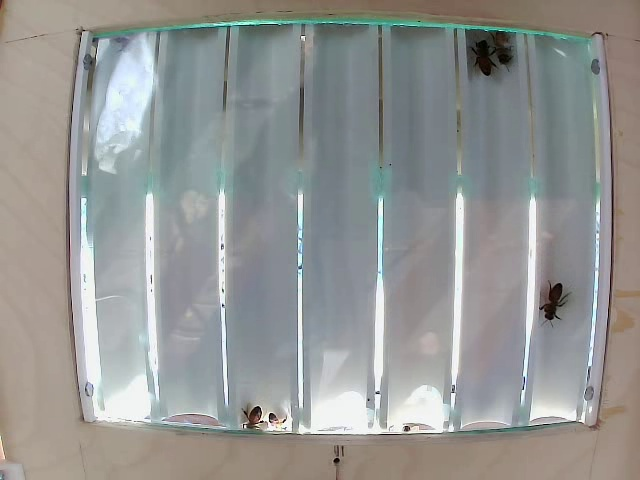bee: (237, 400, 275, 436), (537, 278, 560, 334), (470, 39, 491, 85), (494, 30, 515, 76)
